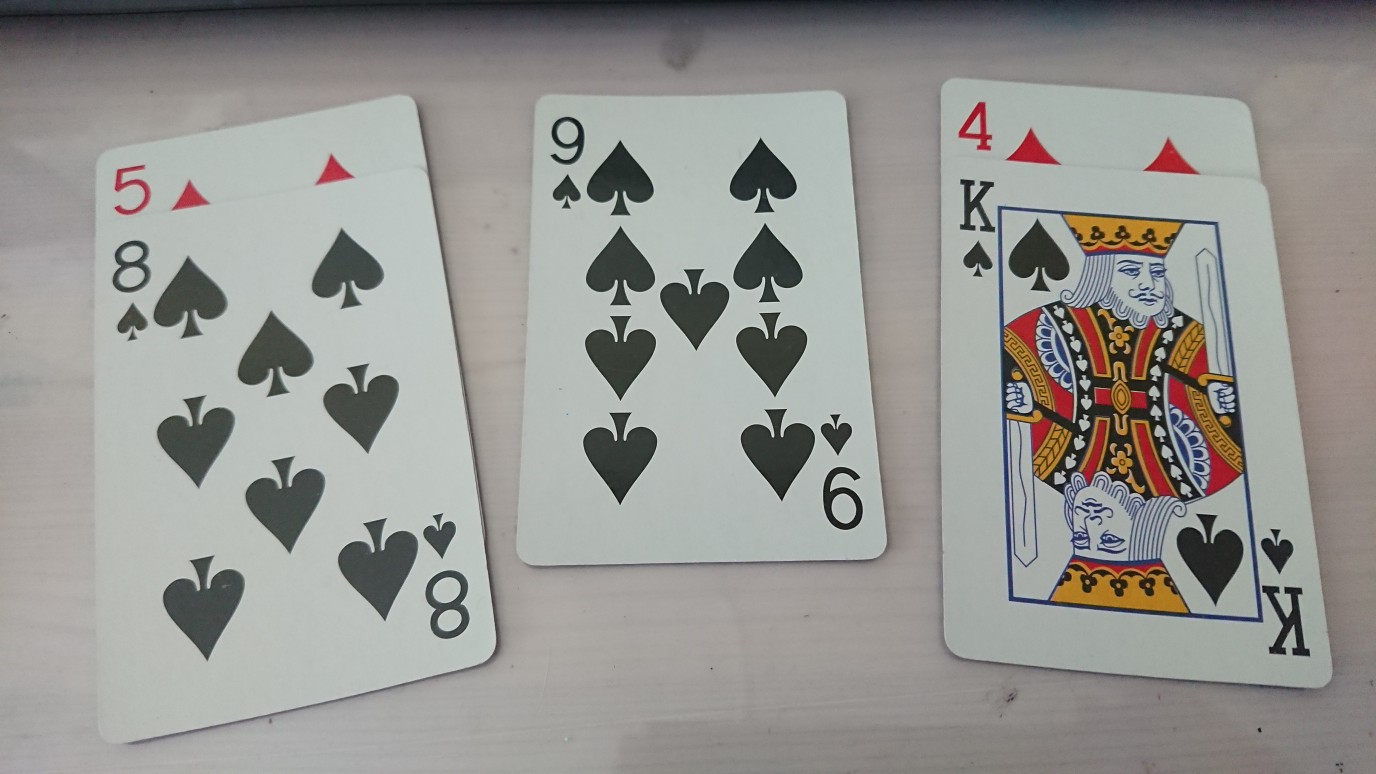8S: (110, 236, 151, 345)
9S: (545, 113, 588, 213)
KS: (955, 173, 998, 281)
